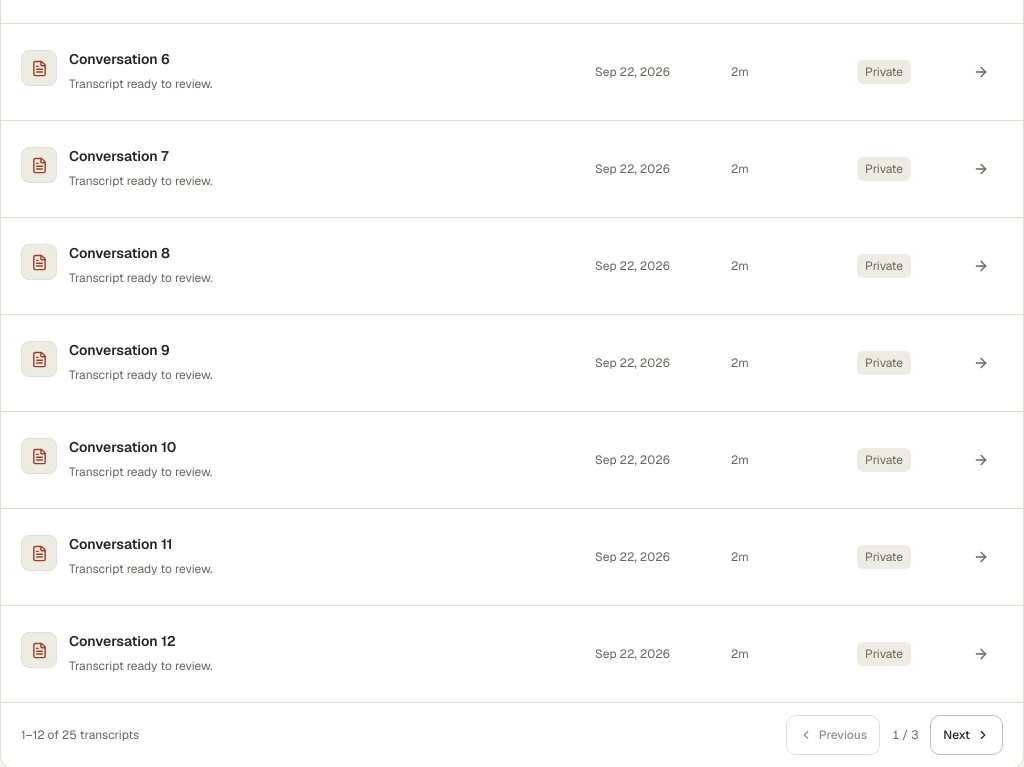
transcript library › bounds pages and resets to the first result after a search
(page scrolled)
Expected: the button with aria-label "Previous transcript page" is disabled, [786,714,880,754]
Click the button with aria-label "Next transcript page" at (967, 734), box [930,714,1003,754]
(page scrolled)
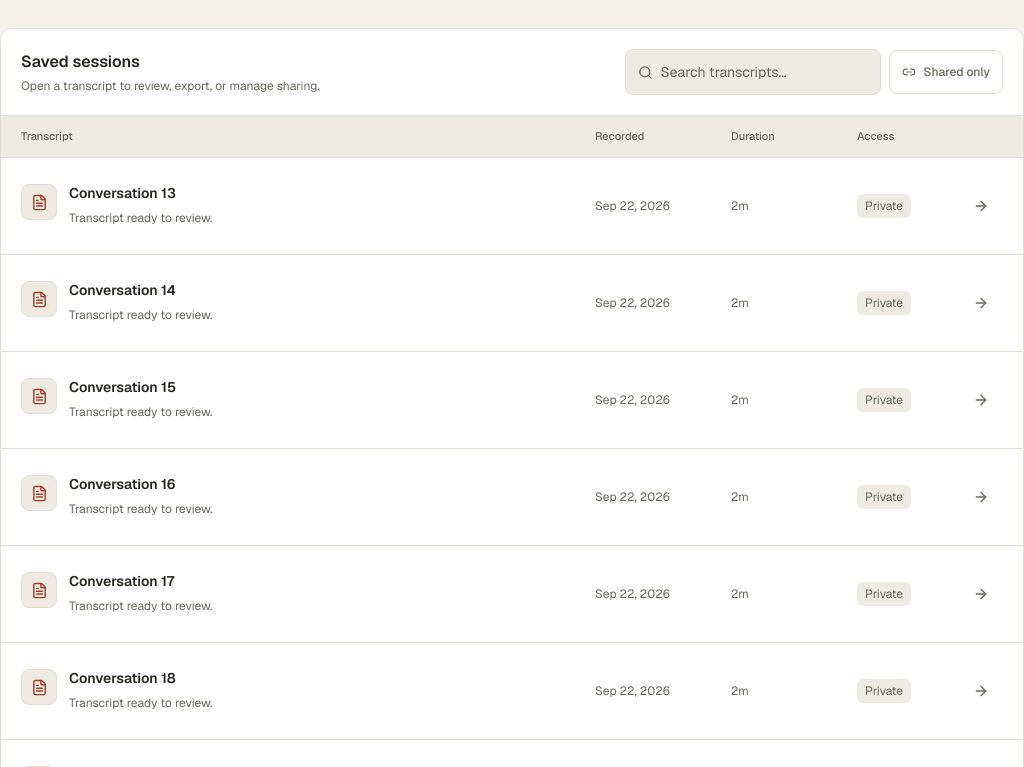
Type "Conversation 25" into the field labelled "Search transcripts" at (766, 72), box [652,50,880,94]
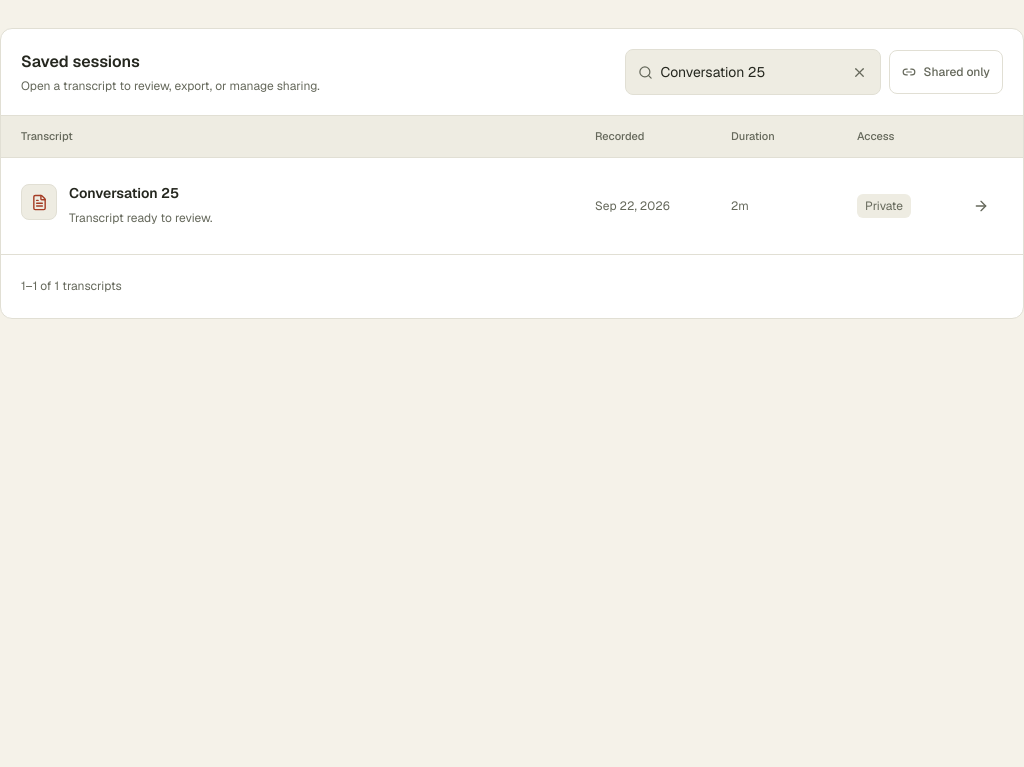
Expected: the message shows "1–1 of 1", [21,278,122,294]
